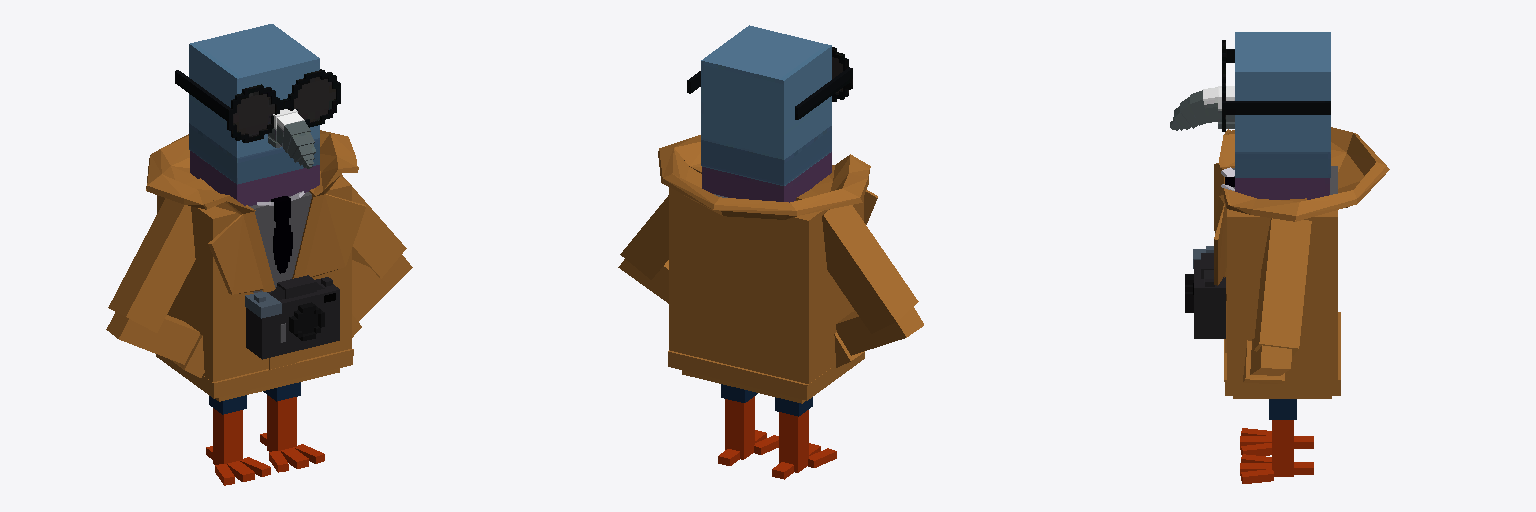
3 views of the same model, side by side, from view 1: azimuth 30°, elevation 25°; view 2: azimuth 150°, elevation 25°; view 3: azimuth 270°, elevation 25° (orthographic).
Parts seen in each view (by area): view 1: Cube0081, Cube0031, Cube0071, Cube0131, Cube0061, Cube0021, Cube0111, Cube0051, Cube0121; view 2: Cube0081, Cube0031, Cube0071, Cube0051; view 3: Cube0081, Cube0031, Cube0071, Cube0131, Cube0051.
Boxes of the visible parts, box(x1,y1,x2,y2) form: Cube0081: box(106, 130, 412, 401); Cube0031: box(175, 24, 340, 205); Cube0071: box(206, 395, 324, 485); Cube0131: box(246, 275, 339, 359); Cube0061: box(249, 192, 311, 292); Cube0021: box(271, 196, 292, 273); Cube0111: box(289, 302, 324, 340); Cube0051: box(209, 382, 300, 414); Cube0121: box(245, 291, 281, 318); Cube0081: box(618, 135, 923, 403); Cube0031: box(687, 25, 852, 202); Cube0071: box(718, 396, 836, 479); Cube0051: box(721, 384, 812, 416); Cube0081: box(1214, 127, 1389, 398); Cube0031: box(1170, 32, 1330, 199); Cube0071: box(1240, 420, 1313, 483); Cube0131: box(1194, 253, 1225, 338); Cube0051: box(1269, 399, 1296, 419).
Size of the model in its own units: 7.1 by 9.4 by 4.59.
Materials: 11 (1 with a texture image).